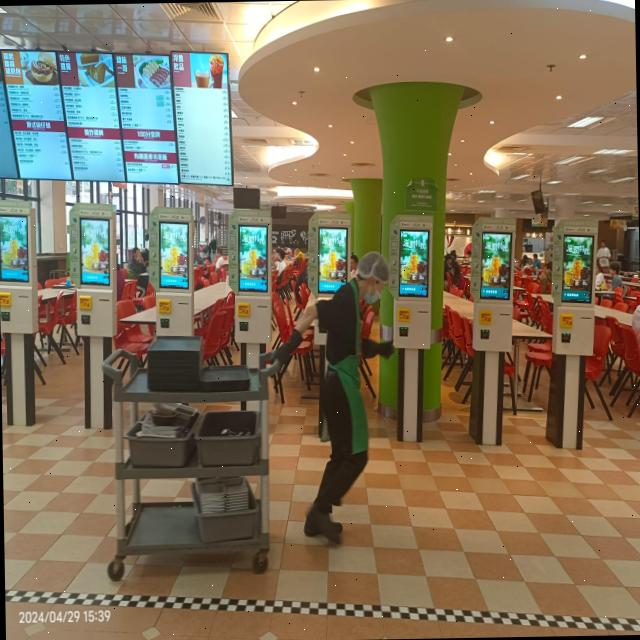orderKiosk: (382, 222, 432, 354), (228, 214, 278, 345), (550, 216, 596, 358), (68, 202, 114, 336), (146, 213, 193, 338), (471, 228, 517, 352), (0, 207, 42, 333), (312, 219, 354, 345)
